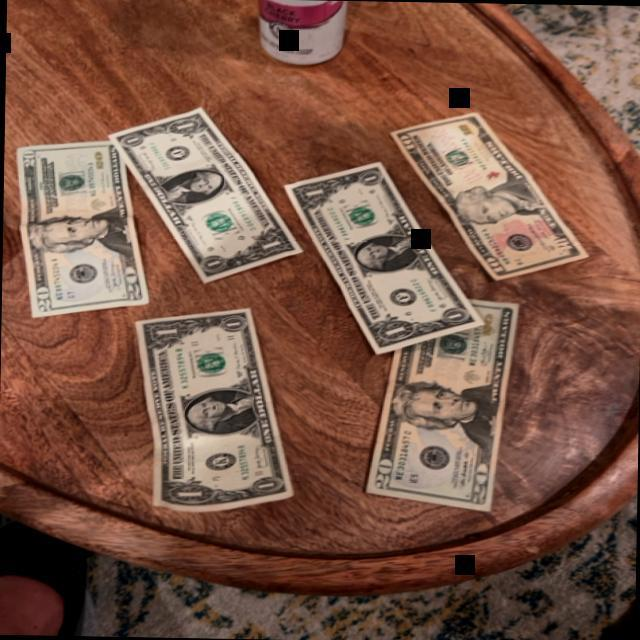one: (278, 159, 484, 355), (104, 104, 302, 287), (130, 306, 296, 514)
ten: (384, 109, 588, 283)
twenty: (360, 296, 520, 513), (11, 138, 151, 322)
